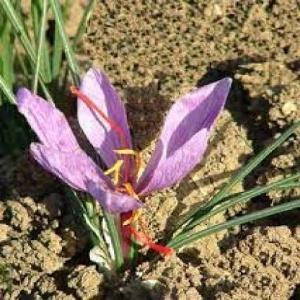Saffron: (18, 68, 232, 223)
